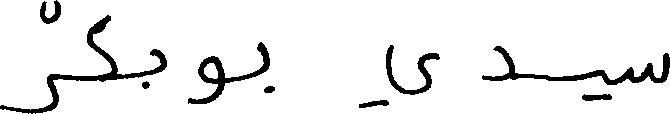X: (0, 0, 57, 113), (360, 40, 434, 112), (89, 10, 114, 86), (189, 51, 222, 108), (630, 48, 669, 87), (485, 41, 512, 85), (142, 44, 164, 93), (585, 65, 610, 105), (259, 37, 272, 97)
